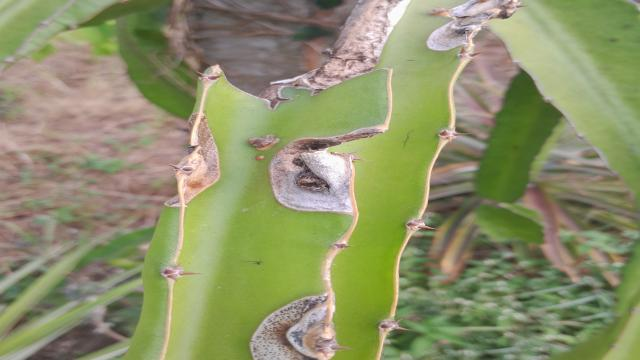stemcanker: (239, 125, 284, 154), (244, 150, 266, 166)
